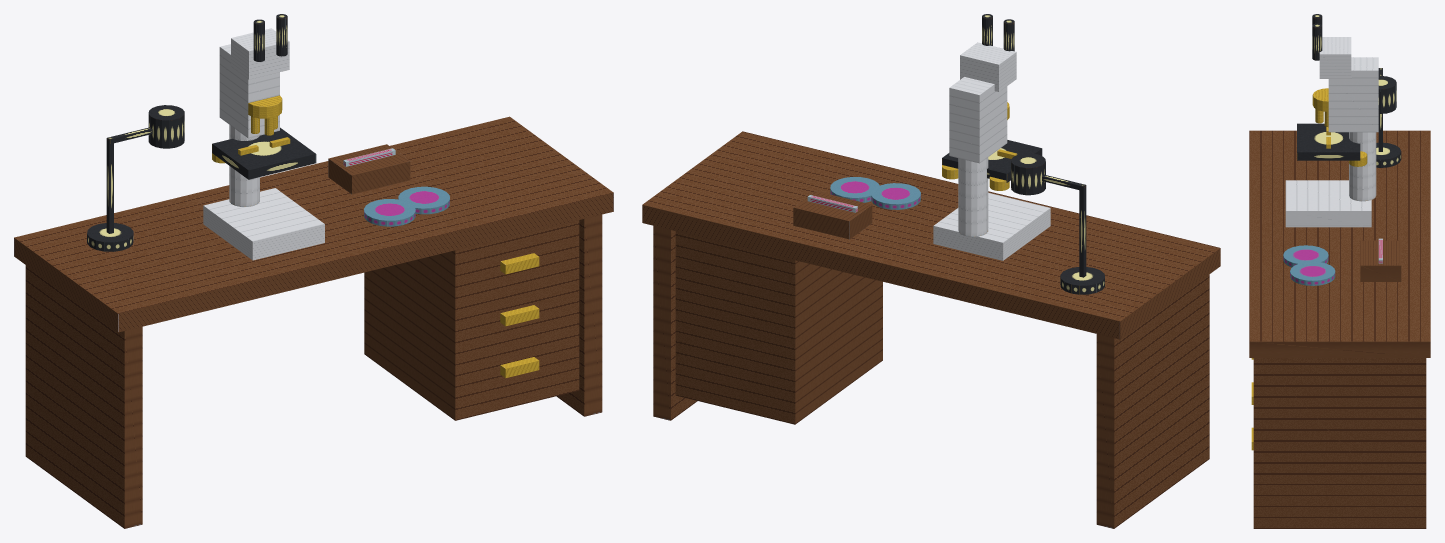
The model's file is prop_microscope_analysis_bench.glb.
3 renders of one model, left to right at view 1: azimuth 30°, elevation 25°; view 2: azimuth 150°, elevation 25°; view 3: azimuth 270°, elevation 25°, orthographic. The views are drawn at different scales.
Parts seen in each view (by area): view 1: Prop_Microscope_Bench; view 2: Prop_Microscope_Bench; view 3: Prop_Microscope_Bench.
Part boxes in pixels (<box>): Prop_Microscope_Bench: <box>14,14,613,528</box>; Prop_Microscope_Bench: <box>642,14,1220,528</box>; Prop_Microscope_Bench: <box>1249,14,1430,528</box>.
Size of the model in its own units: 2.2 by 1.86 by 0.8.
Materials: 1 (1 with a texture image).
